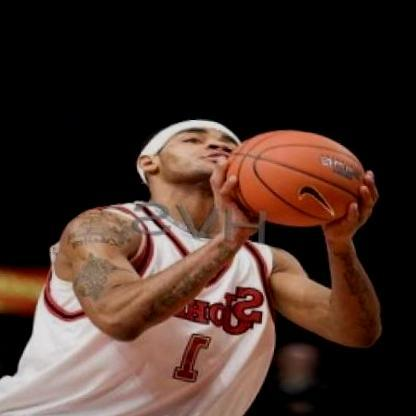basketball: (224, 117, 379, 240)
